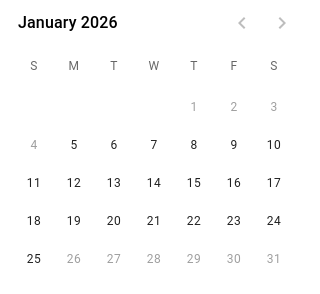
DateRangeCalendar › disables days outside minDate/maxDate and via shouldDisableDate(day, position)
Expected: the cell "4" is disabled, left=16, top=127, right=52, bottom=163
Expected: the cell "26" is disabled, left=56, top=241, right=92, bottom=277
Click the cell "10". click: click(274, 145)
box: left=256, top=127, right=292, bottom=163
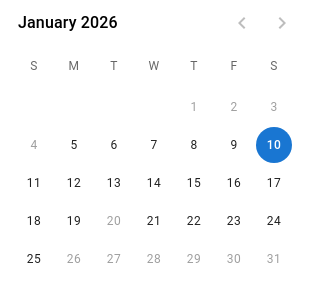
Expected: the cell "20" is disabled, left=96, top=203, right=132, bottom=239
